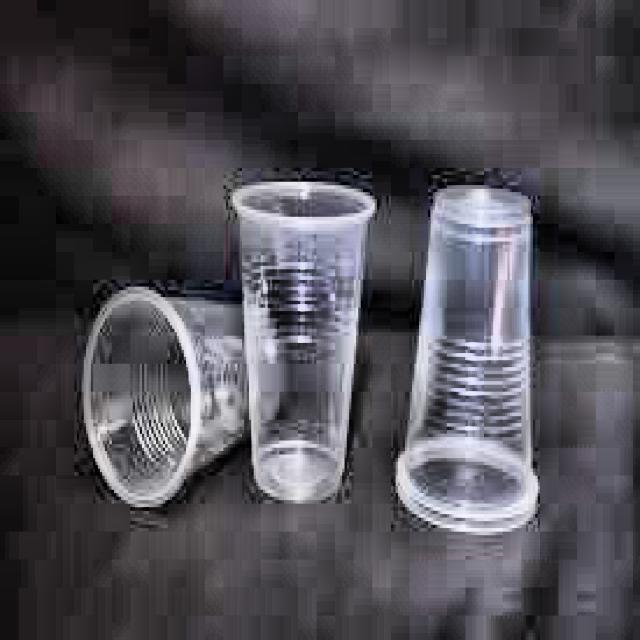plastic cup: (396, 188, 539, 533), (232, 182, 375, 501), (82, 287, 249, 506)
